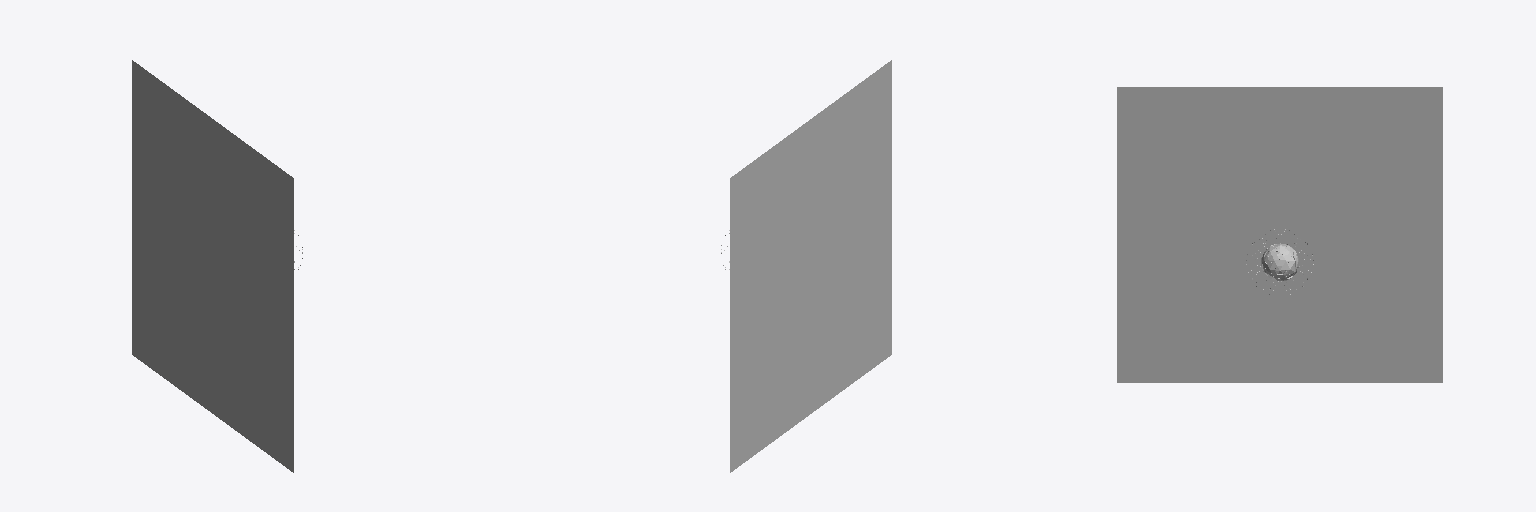
3 views of the same model, side by side, from view 1: azimuth 30°, elevation 25°; view 2: azimuth 150°, elevation 25°; view 3: azimuth 270°, elevation 25° (orthographic).
Parts seen in each view (by area): view 1: 地面; view 2: 地面; view 3: 地面, 球体.2.
Boxes of the visible parts, <box> form: 地面: <box>132,60,293,472</box>; 地面: <box>730,60,891,472</box>; 地面: <box>1117,87,1442,382</box>; 球体.2: <box>1263,244,1297,280</box>.
Bounding box in the file's own units: 610 × 2000 × 2000.